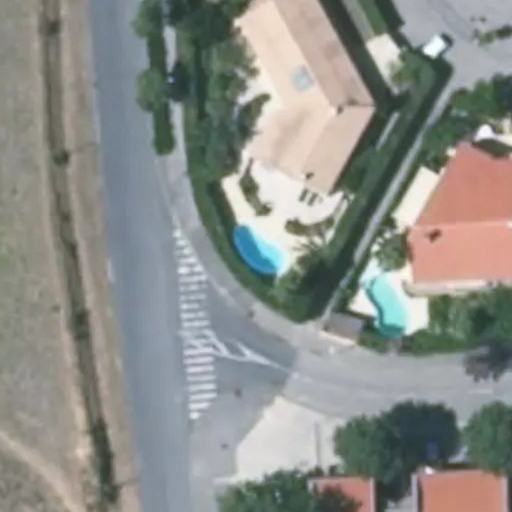pool: (218, 241, 289, 244)
